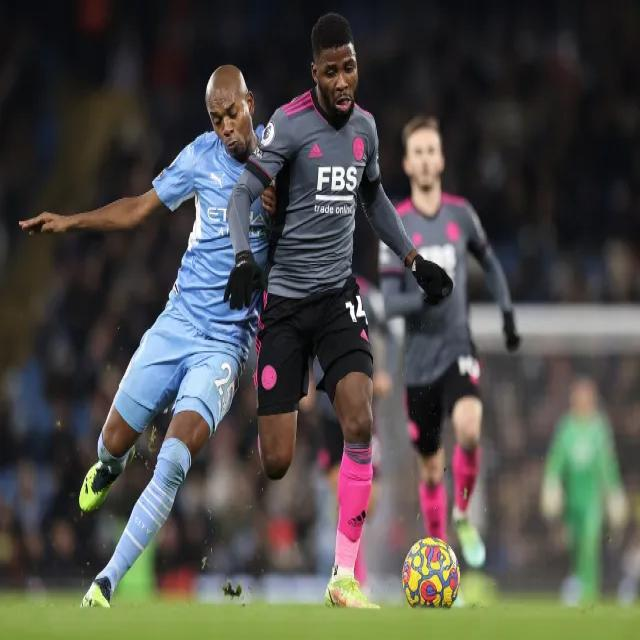collide: (256, 158, 292, 341), (227, 164, 250, 318)
possible foul: (13, 35, 448, 542)
